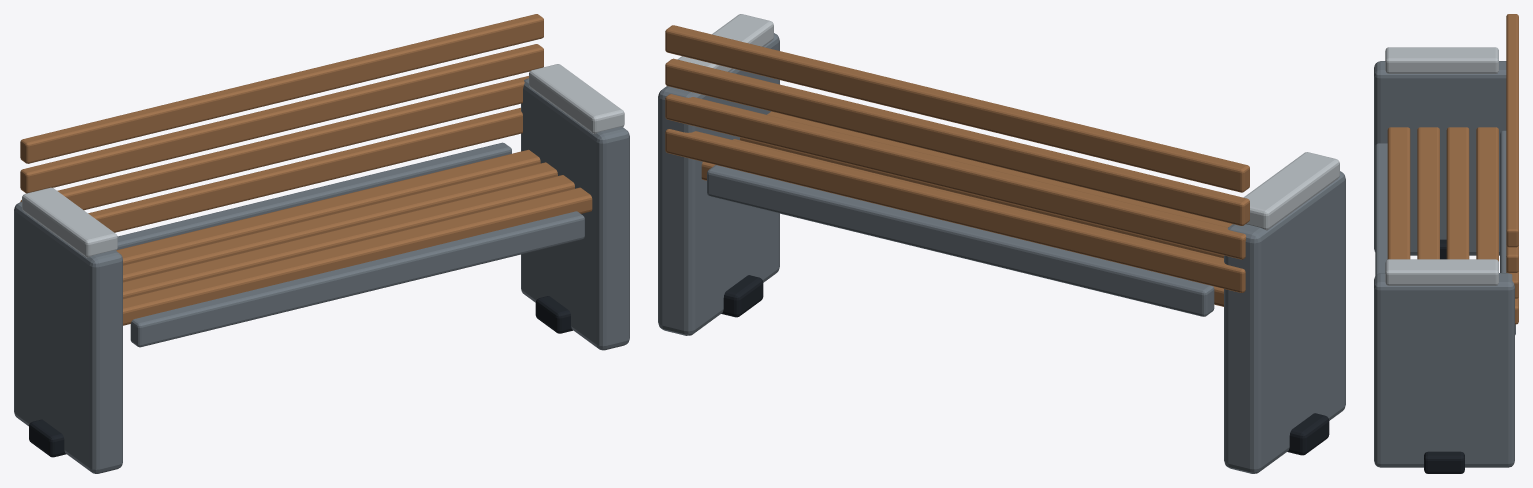
Rendered from prop_canyon_bench_a_v01.glb.
The picture shows the model from 3 angles, left to right: view 1: azimuth 30°, elevation 25°; view 2: azimuth 150°, elevation 25°; view 3: azimuth 270°, elevation 25°; orthographic projection. The views are drawn at different scales.
Visible parts, largest first — view 1: component__side_frames__left_side_frame, component__side_frames__right_side_frame, component__back_structure__back_slat.003, component__back_structure__back_slat.002, component__supports__front_support, component__back_structure__back_slat.001, component__back_structure__back_slat, component__seat_structure__seat_slat.001, component__seat_structure__seat_slat.002, component__seat_structure__seat_slat.003, component__seat_structure__seat_slat, component__supports__rear_support (+4 smaller); view 2: component__side_frames__left_side_frame, component__back_structure__back_slat.003, component__back_structure__back_slat.002, component__back_structure__back_slat.001, component__supports__rear_support, component__back_structure__back_slat, component__side_frames__right_side_frame, component__armrests__left_armrest, component__seat_structure__seat_slat.001, component__seat_structure__seat_slat.002, component__armrests__right_armrest, component__anchored_feet__left_foot (+2 smaller); view 3: component__side_frames__right_side_frame, component__side_frames__left_side_frame, component__seat_structure__seat_slat.001, component__seat_structure__seat_slat.003, component__armrests__left_armrest, component__armrests__right_armrest, component__seat_structure__seat_slat, component__seat_structure__seat_slat.002, component__back_structure__back_slat.003, component__supports__front_support, component__supports__rear_support, component__anchored_feet__right_foot (+1 smaller).
Boxes of the visible parts, <box> form: component__side_frames__left_side_frame: <box>14,202,122,473</box>; component__side_frames__right_side_frame: <box>521,78,629,350</box>; component__back_structure__back_slat.003: <box>20,14,543,163</box>; component__back_structure__back_slat.002: <box>20,44,543,193</box>; component__supports__front_support: <box>130,211,584,347</box>; component__back_structure__back_slat.001: <box>20,76,528,210</box>; component__back_structure__back_slat: <box>88,107,522,232</box>; component__seat_structure__seat_slat.001: <box>123,187,592,325</box>; component__seat_structure__seat_slat.002: <box>123,175,574,298</box>; component__seat_structure__seat_slat.003: <box>123,162,557,281</box>; component__seat_structure__seat_slat: <box>116,149,540,265</box>; component__supports__rear_support: <box>117,142,511,249</box>; component__side_frames__left_side_frame: <box>1224,171,1345,473</box>; component__back_structure__back_slat.003: <box>665,25,1249,192</box>; component__back_structure__back_slat.002: <box>665,58,1249,225</box>; component__back_structure__back_slat.001: <box>665,94,1246,259</box>; component__supports__rear_support: <box>707,165,1214,316</box>; component__back_structure__back_slat: <box>665,129,1245,292</box>; component__side_frames__right_side_frame: <box>658,33,779,335</box>; component__armrests__left_armrest: <box>1243,152,1339,230</box>; component__seat_structure__seat_slat.001: <box>767,111,1232,227</box>; component__seat_structure__seat_slat.002: <box>740,137,1223,258</box>; component__armrests__right_armrest: <box>677,14,773,71</box>; component__anchored_feet__left_foot: <box>1287,413,1329,455</box>; component__side_frames__right_side_frame: <box>1374,273,1514,467</box>; component__side_frames__left_side_frame: <box>1374,61,1506,255</box>; component__seat_structure__seat_slat.001: <box>1387,127,1410,259</box>; component__seat_structure__seat_slat.003: <box>1446,127,1469,259</box>; component__armrests__left_armrest: <box>1385,47,1498,73</box>; component__armrests__right_armrest: <box>1385,259,1498,285</box>; component__seat_structure__seat_slat: <box>1476,127,1498,261</box>; component__seat_structure__seat_slat.002: <box>1417,127,1439,259</box>; component__back_structure__back_slat.003: <box>1506,14,1518,247</box>; component__supports__front_support: <box>1375,143,1387,275</box>; component__supports__rear_support: <box>1500,130,1515,334</box>; component__anchored_feet__right_foot: <box>1424,451,1464,473</box>.
Bounding box in the file's own units: 1.78 × 0.8235 × 0.459.
